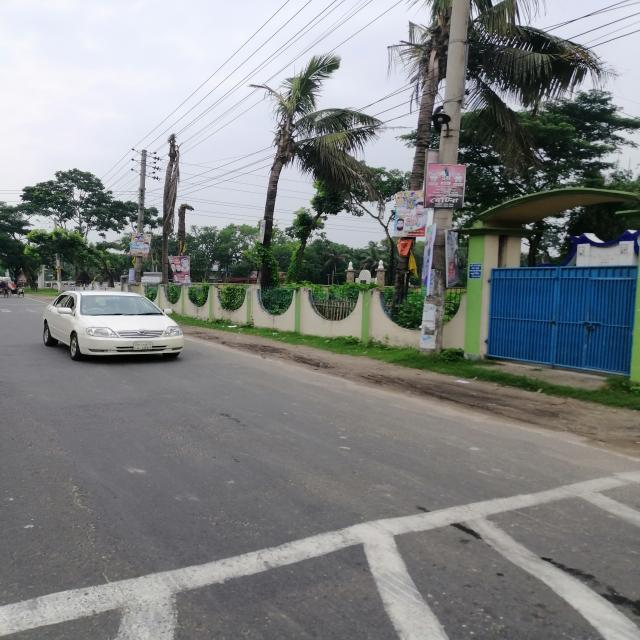Car: (31, 274, 188, 366)
